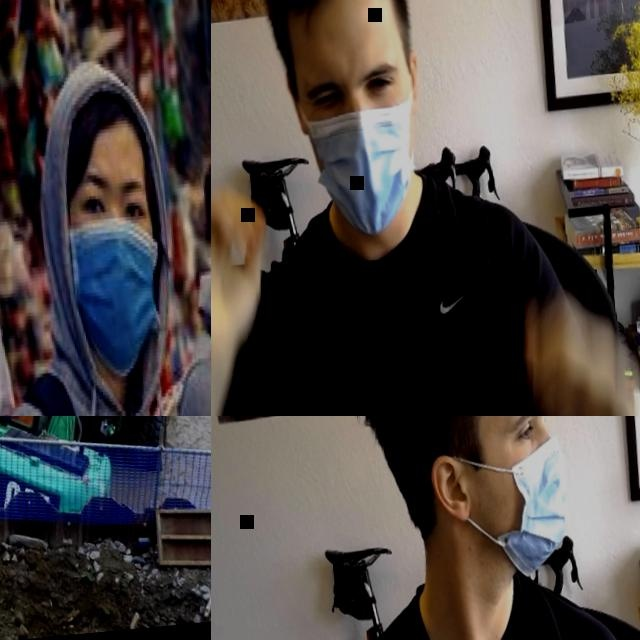Mask: (293, 85, 427, 242), (447, 436, 576, 585), (64, 215, 168, 378)
NO-Hardhat: (39, 57, 149, 170)
NO-Safety Vest: (264, 173, 541, 416), (13, 358, 185, 416)
Person: (211, 0, 640, 416), (258, 416, 640, 640), (0, 52, 199, 416), (140, 29, 211, 416), (11, 416, 33, 425)
Safety Vest: (14, 416, 32, 423)
machinery: (0, 416, 149, 526), (0, 416, 45, 640)
